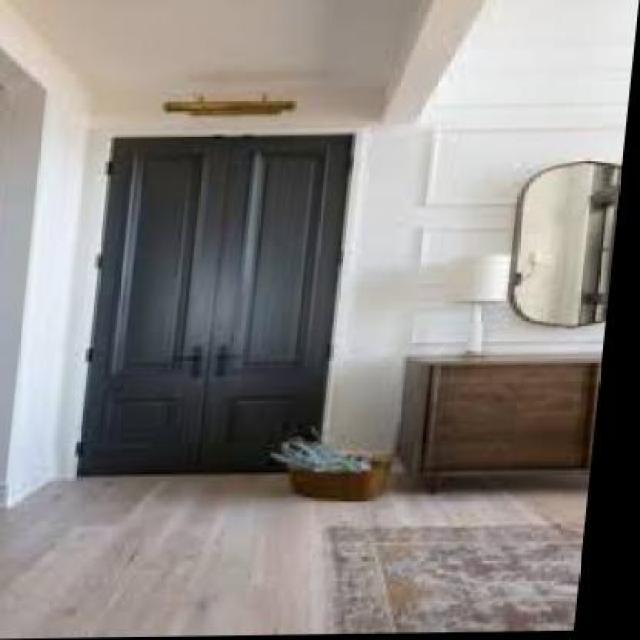door: (64, 101, 357, 508)
